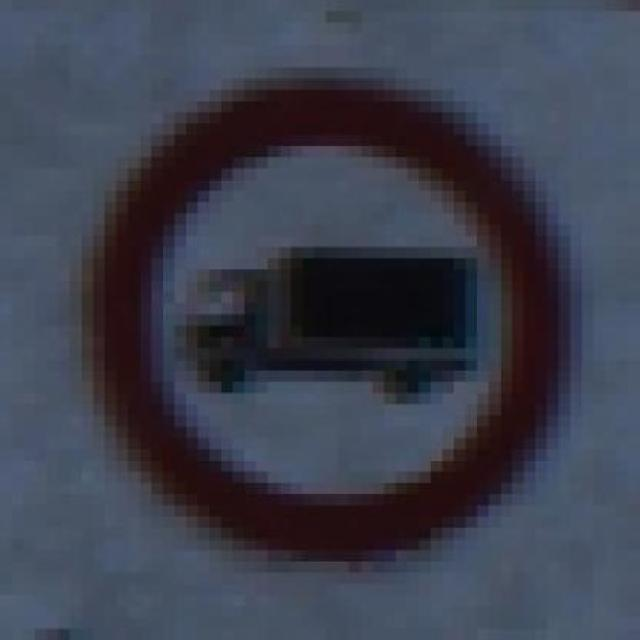Truck traffic is prohibited: (58, 56, 594, 573)
